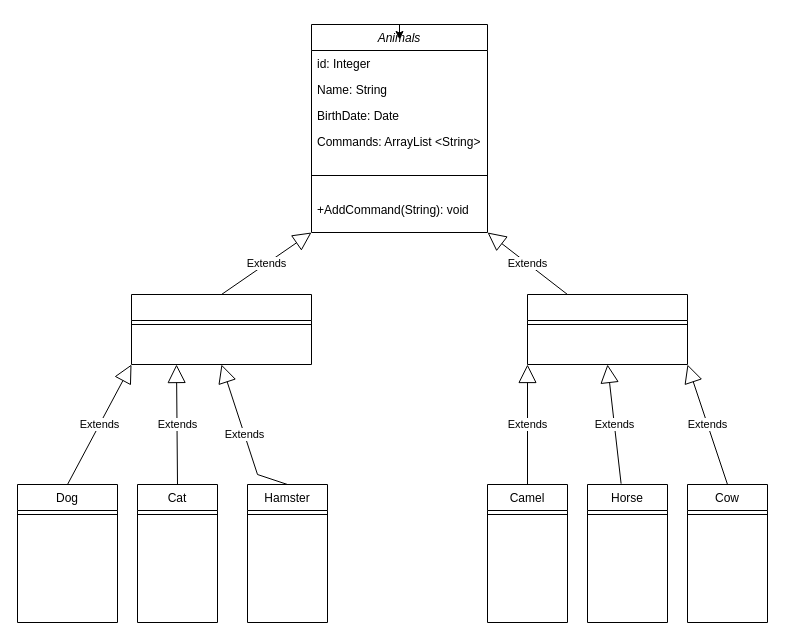
Image size: 785x640. Some labels were removed from this diagram. Each missing label, with the centre of its shape:
"Pack animals" belongs at [607,329].
"Pets" belongs at [221,329].
